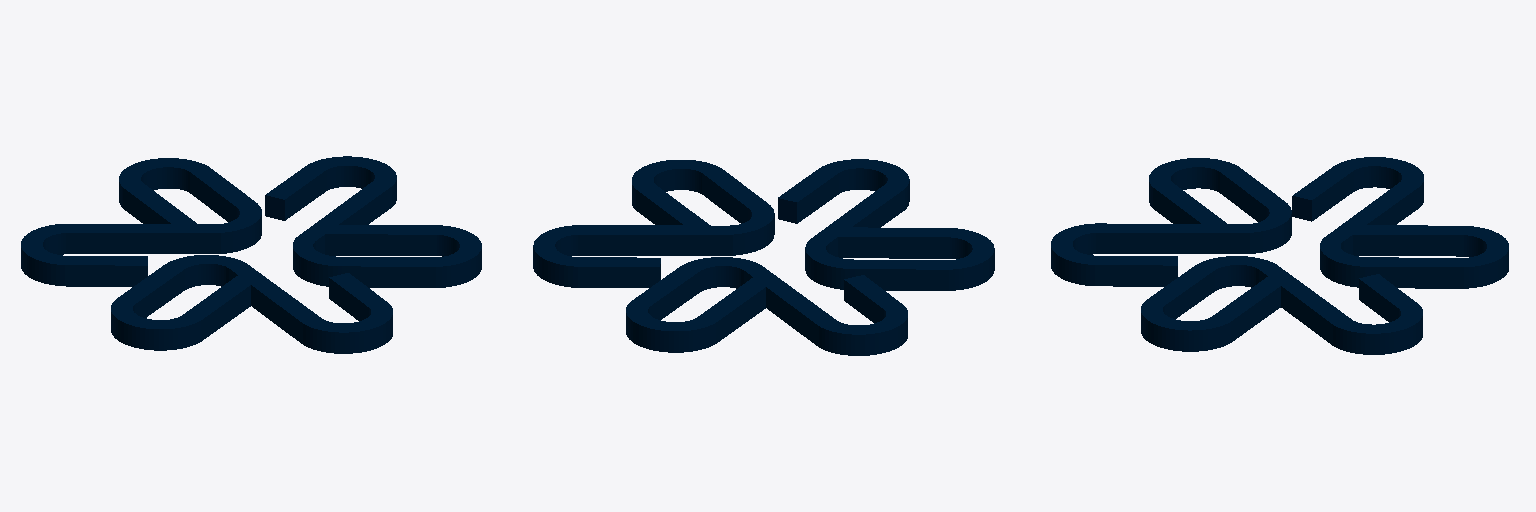
The model's file is ifusp_3d.obj.
The picture shows the model from 3 angles: view 1: azimuth 30°, elevation 25°; view 2: azimuth 150°, elevation 25°; view 3: azimuth 270°, elevation 25°; orthographic projection.
Parts seen in each view (by area): view 1: IFUSP_Circle; view 2: IFUSP_Circle; view 3: IFUSP_Circle.
Part boxes in pixels (bbox=[...]): IFUSP_Circle: bbox=[21, 156, 481, 353]; IFUSP_Circle: bbox=[533, 159, 994, 355]; IFUSP_Circle: bbox=[1051, 157, 1508, 354].
Bounding box in the file's own units: 1.78 × 0.1 × 1.95.